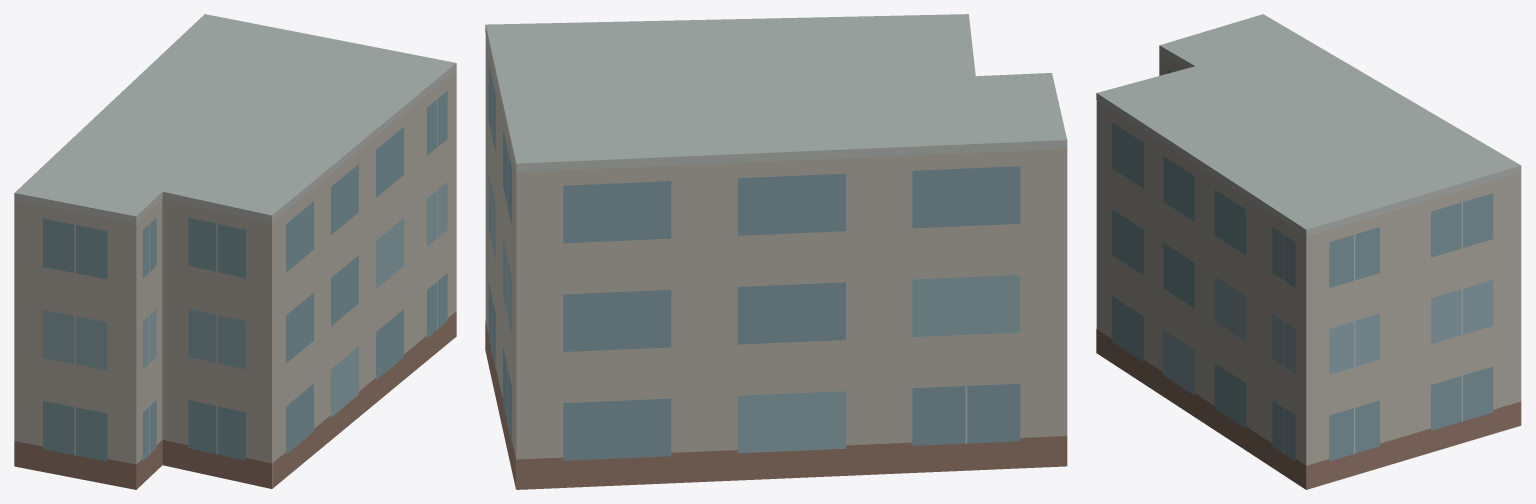
Rendered from survey-upis-32679539.glb.
3 renders of one model, left to right at view 1: azimuth 30°, elevation 25°; view 2: azimuth 150°, elevation 25°; view 3: azimuth 270°, elevation 25°, orthographic. The views are drawn at different scales.
Parts seen in each view (by area): view 1: survey-upis-32679539.tmp; view 2: survey-upis-32679539.tmp; view 3: survey-upis-32679539.tmp.
Boxes of the visible parts, left/top/right/bottom form: survey-upis-32679539.tmp: left=14, top=14, right=456, bottom=489; survey-upis-32679539.tmp: left=485, top=14, right=1067, bottom=489; survey-upis-32679539.tmp: left=1096, top=14, right=1521, bottom=489.
Size of the model in its own units: 16.29 by 9.15 by 13.55.
